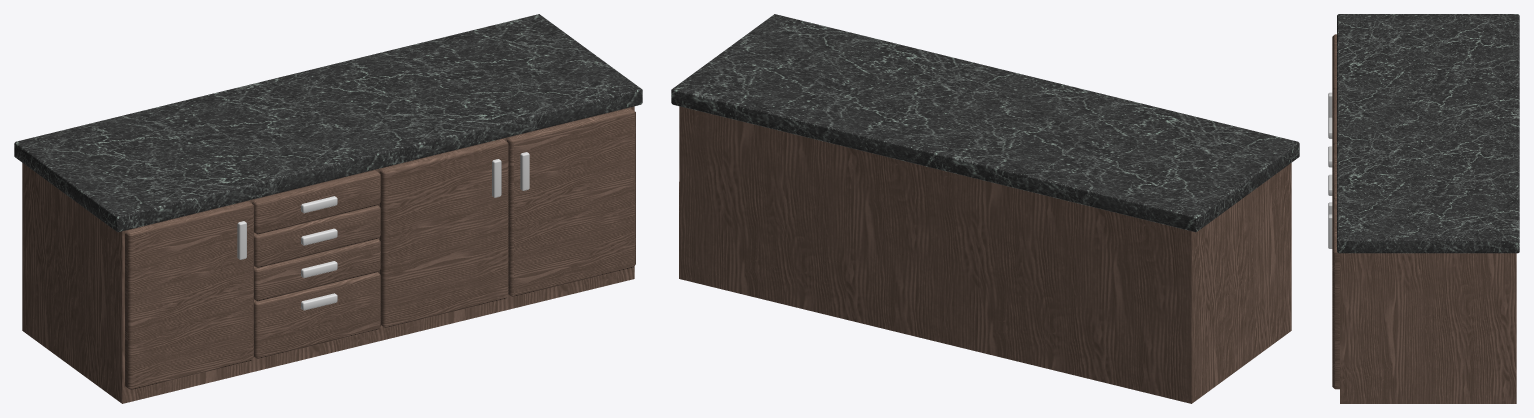
The model's file is kitchen_030.fbx.
3 views of the same model, side by side, from view 1: azimuth 30°, elevation 25°; view 2: azimuth 150°, elevation 25°; view 3: azimuth 270°, elevation 25° (orthographic). The views are drawn at different scales.
Visible parts, largest first — view 1: kitchen_030; view 2: kitchen_030; view 3: kitchen_030.
Part boxes in pixels (bbox=[...]): kitchen_030: bbox=[14, 14, 642, 403]; kitchen_030: bbox=[671, 14, 1299, 403]; kitchen_030: bbox=[1328, 14, 1519, 403].
Bounding box in the file's own units: 303 × 108 × 104.
